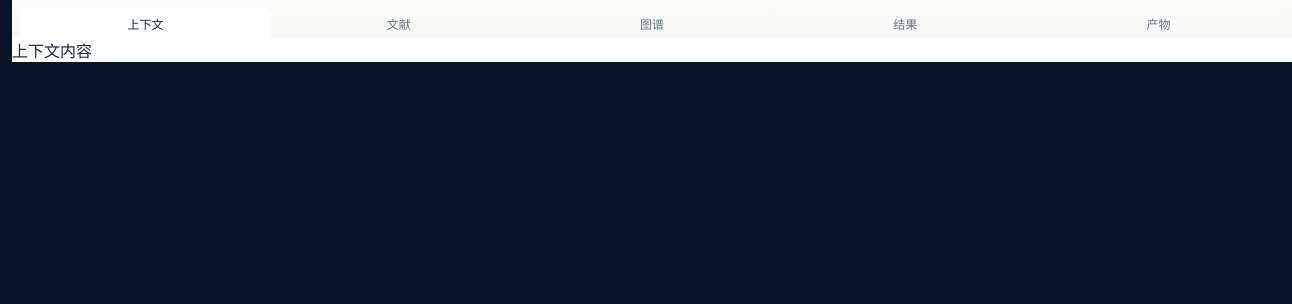
Test: 默认显示上下文标签，切到文献加载真实文献
Expected: the text "上下文内容" is shown, [12,41,92,61]
Click the tab "文献" at (399, 23), box [273,8,524,38]
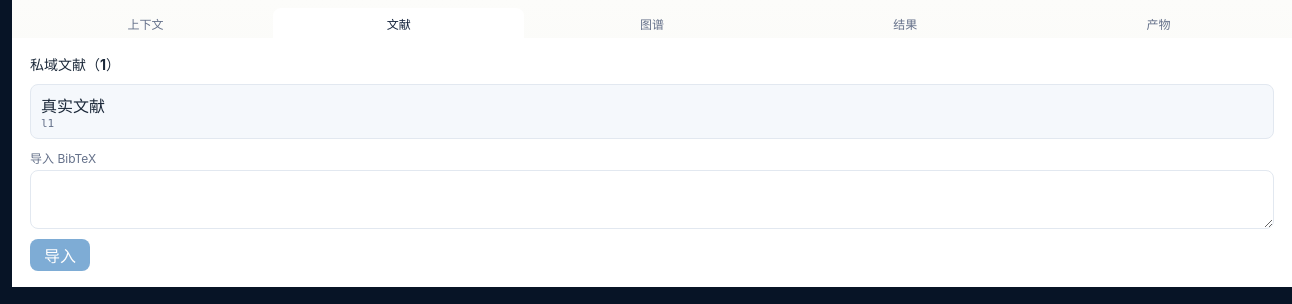
Now the text "真实文献" is shown, box [41,96,105,116]
